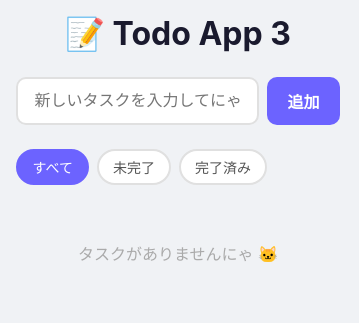
Test case: TodoApp › Todo追加 › フォーム送信で新しいTodoが追加される
The width and height of the screenshot is (359, 323).
In the field with placeholder "新しいタスクを入力してにゃ": (138, 101) [16,77,260,125], type "新しいタスク"
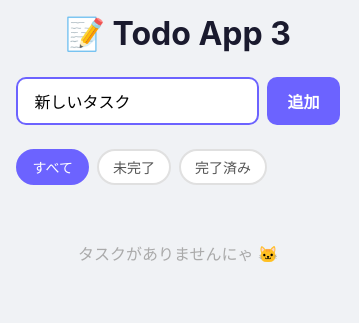
Click the button "追加": click(304, 101) [268,77,340,125]
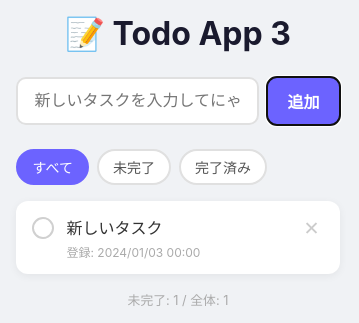
Result: the text "新しいタスク" is shown at [66,218,162,238]
